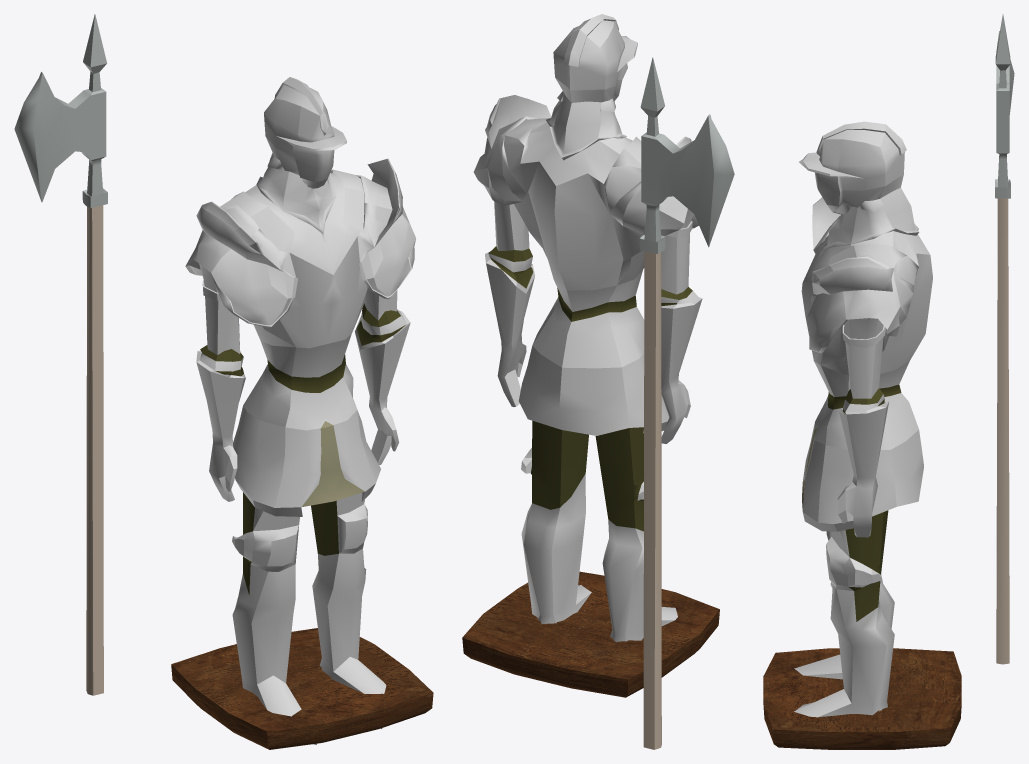
File: 0819yoroi.fbx
The picture shows the model from 3 angles, left to right: view 1: azimuth 30°, elevation 25°; view 2: azimuth 150°, elevation 25°; view 3: azimuth 270°, elevation 25°; orthographic projection. The views are drawn at different scales.
Parts seen in each view (by area): view 1: pCube1, pCube3, pCube2; view 2: pCube1, pCube3, pCube2; view 3: pCube1, pCube2, pCube3.
Part boxes in pixels (left/top/right/bottom): pCube1: left=185, top=77, right=415, bottom=744; pCube3: left=14, top=14, right=107, bottom=695; pCube2: left=171, top=628, right=433, bottom=749; pCube1: left=473, top=14, right=702, bottom=642; pCube3: left=639, top=57, right=734, bottom=749; pCube2: left=462, top=571, right=719, bottom=697; pCube1: left=794, top=121, right=932, bottom=717; pCube2: left=763, top=648, right=961, bottom=749; pCube3: left=995, top=14, right=1014, bottom=664.
Size of the model in its own units: 1700 by 3468 by 1220.
